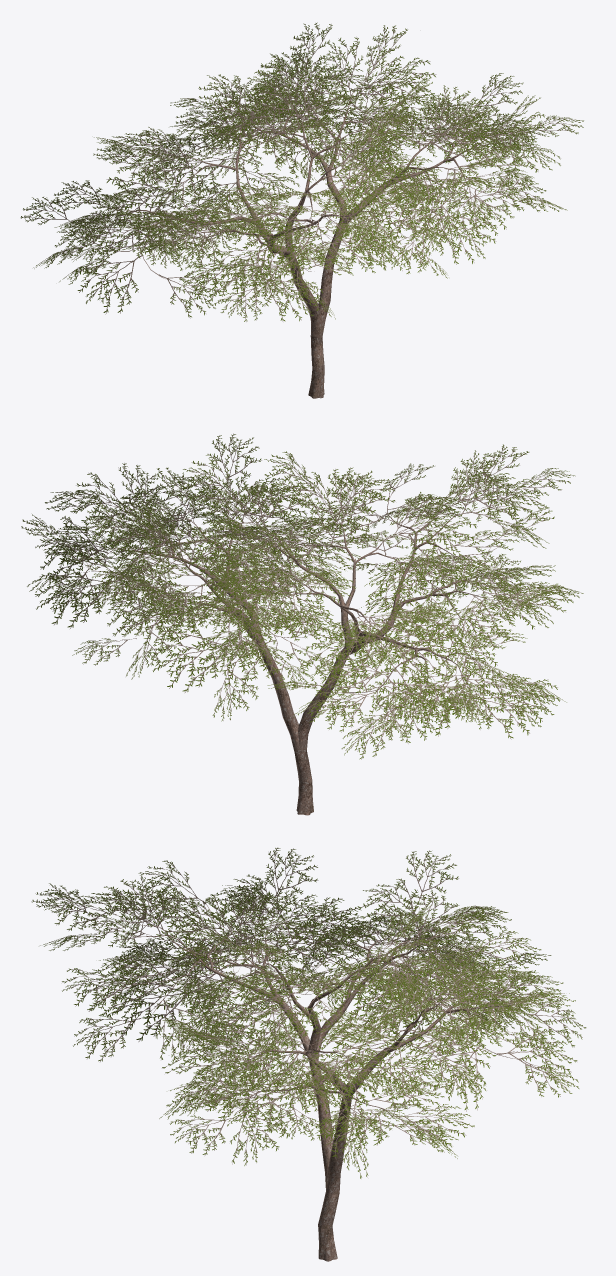
3 views of the same model, one above another, from view 1: azimuth 30°, elevation 25°; view 2: azimuth 150°, elevation 25°; view 3: azimuth 270°, elevation 25° (orthographic). The views are drawn at different scales.
Parts seen in each view (by area): view 1: acacia branch_1, bark05_0; view 2: acacia branch_1, bark05_0; view 3: acacia branch_1, bark05_0.
Part boxes in pixels (x1,y1,x2,y2): acacia branch_1: [20, 22, 583, 321]; bark05_0: [75, 63, 531, 398]; acacia branch_1: [21, 433, 583, 759]; bark05_0: [76, 477, 514, 815]; acacia branch_1: [31, 847, 586, 1178]; bark05_0: [95, 900, 538, 1261].
Size of the model in its own units: 12.8 by 6.9 by 10.39.
